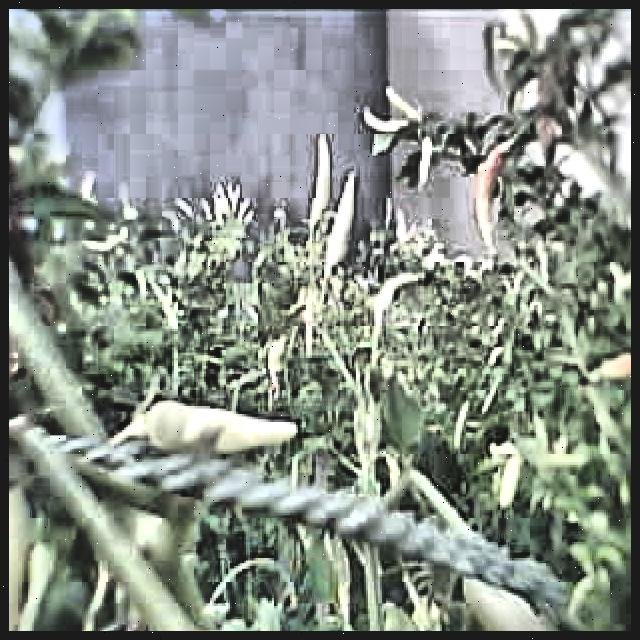Cabai: (466, 137, 536, 252), (586, 347, 631, 387)
